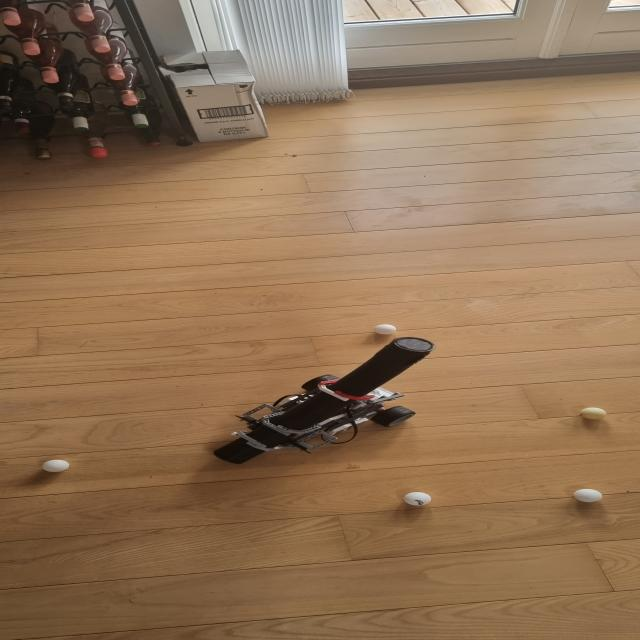robot: (213, 337, 436, 465)
white-golf-balls: (404, 492, 432, 506), (574, 489, 602, 502), (42, 460, 70, 472), (580, 408, 607, 419), (374, 324, 396, 334)
